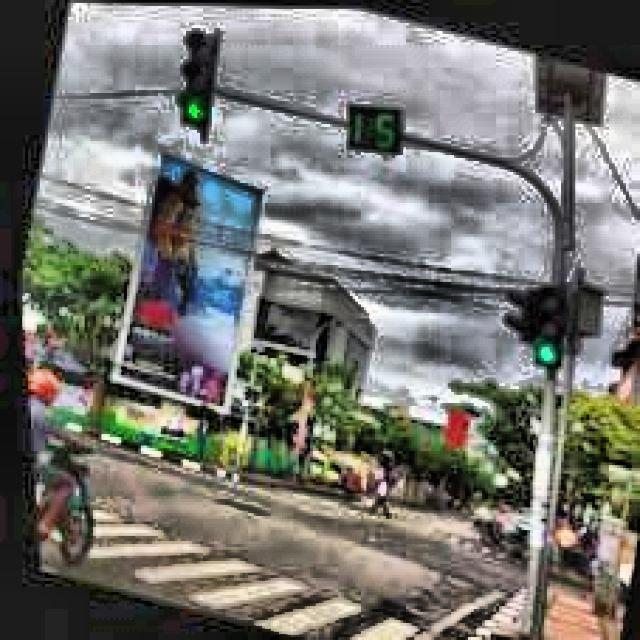green: (168, 26, 227, 132), (519, 276, 575, 366)
